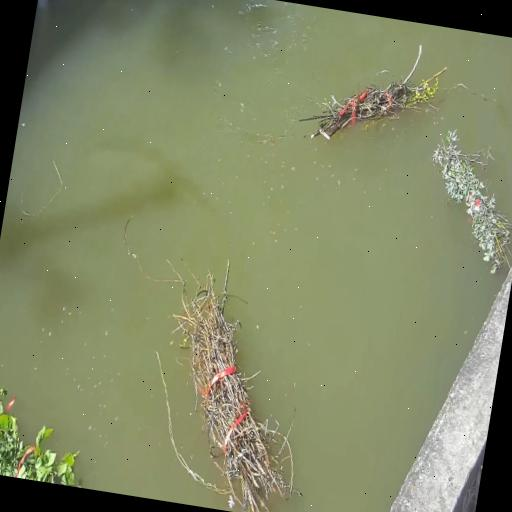twig: (174, 261, 293, 512), (299, 45, 446, 139), (431, 129, 511, 273), (0, 387, 77, 485)
